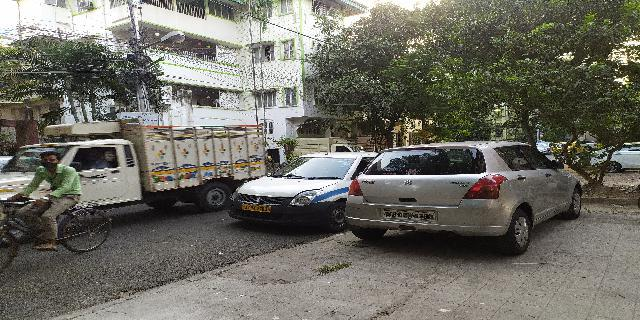Car: (346, 138, 588, 255), (226, 145, 372, 235)
Cycle: (1, 152, 110, 265)
Truck: (1, 115, 267, 210)
